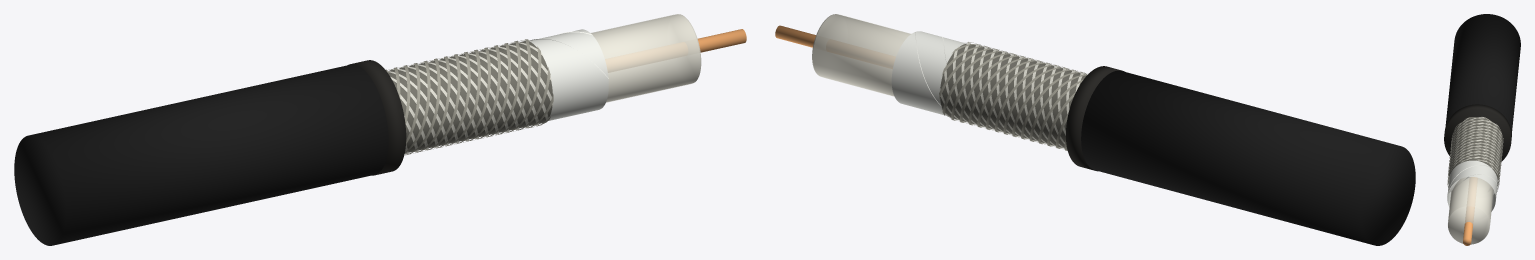
Rendered from rf-belden1855a.glb.
3 views of the same model, side by side, from view 1: azimuth 30°, elevation 25°; view 2: azimuth 150°, elevation 25°; view 3: azimuth 270°, elevation 25° (orthographic). The views are drawn at different scales.
Parts seen in each view (by area): view 1: matte black pvc jacket body, braid dark diamond recess, gas injected foam dielectric, smooth dielectric skin, duobond foil sleeve, jacket cut lip, solid center conductor continuous, braid left hand woven carrier 10, braid left hand woven carrier 01, braid left hand woven carrier 09, braid left hand woven carrier 02, braid left hand woven carrier 08 (+6 smaller); view 2: matte black pvc jacket body, braid dark diamond recess, gas injected foam dielectric, smooth dielectric skin, duobond foil sleeve, jacket cut lip, solid center conductor continuous, braid left hand woven carrier 07, braid left hand woven carrier 06, braid left hand woven carrier 08, braid left hand woven carrier 05, braid left hand woven carrier 09 (+6 smaller); view 3: matte black pvc jacket body, gas injected foam dielectric, braid dark diamond recess, jacket cut lip, smooth dielectric skin, duobond foil sleeve, solid center conductor continuous, braid left hand woven carrier 08, braid left hand woven carrier 07, braid left hand woven carrier 09, braid left hand woven carrier 06, braid right hand woven carrier 09 (+16 smaller).
Boxes of the visible parts, x1=… form: matte black pvc jacket body: x1=14, y1=64, x2=388, y2=245; braid dark diamond recess: x1=388, y1=41, x2=552, y2=152; gas injected foam dielectric: x1=591, y1=14, x2=701, y2=102; smooth dielectric skin: x1=591, y1=14, x2=699, y2=102; duobond foil sleeve: x1=529, y1=29, x2=608, y2=120; jacket cut lip: x1=348, y1=60, x2=406, y2=175; solid center conductor continuous: x1=697, y1=29, x2=746, y2=52; braid left hand woven carrier 10: x1=404, y1=39, x2=531, y2=153; braid left hand woven carrier 01: x1=405, y1=46, x2=541, y2=155; braid left hand woven carrier 09: x1=406, y1=40, x2=520, y2=143; braid left hand woven carrier 02: x1=407, y1=56, x2=550, y2=154; braid left hand woven carrier 08: x1=403, y1=43, x2=510, y2=140; matte black pvc jacket body: x1=1081, y1=70, x2=1415, y2=245; braid dark diamond recess: x1=940, y1=43, x2=1086, y2=147; gas injected foam dielectric: x1=812, y1=14, x2=910, y2=95; smooth dielectric skin: x1=813, y1=14, x2=910, y2=96; duobond foil sleeve: x1=891, y1=31, x2=965, y2=115; jacket cut lip: x1=1066, y1=66, x2=1124, y2=171; solid center conductor continuous: x1=775, y1=25, x2=815, y2=47; braid left hand woven carrier 07: x1=942, y1=51, x2=1087, y2=141; braid left hand woven carrier 06: x1=951, y1=53, x2=1083, y2=144; braid left hand woven carrier 08: x1=939, y1=48, x2=1088, y2=139; braid left hand woven carrier 05: x1=960, y1=55, x2=1075, y2=146; braid left hand woven carrier 09: x1=942, y1=46, x2=1086, y2=136; matte black pvc jacket body: x1=1445, y1=14, x2=1520, y2=133; gas injected foam dielectric: x1=1448, y1=177, x2=1493, y2=244; braid dark diamond recess: x1=1448, y1=117, x2=1502, y2=186; jacket cut lip: x1=1444, y1=104, x2=1511, y2=161; smooth dielectric skin: x1=1448, y1=177, x2=1493, y2=224; duobond foil sleeve: x1=1447, y1=160, x2=1497, y2=211; solid center conductor continuous: x1=1463, y1=206, x2=1474, y2=245; braid left hand woven carrier 08: x1=1448, y1=123, x2=1502, y2=184; braid left hand woven carrier 07: x1=1449, y1=120, x2=1502, y2=191; braid left hand woven carrier 09: x1=1448, y1=125, x2=1501, y2=171; braid left hand woven carrier 06: x1=1449, y1=117, x2=1502, y2=178; braid right hand woven carrier 09: x1=1447, y1=123, x2=1503, y2=186.
Bounding box in the file's own units: 6.52 × 0.9342 × 1.07.
